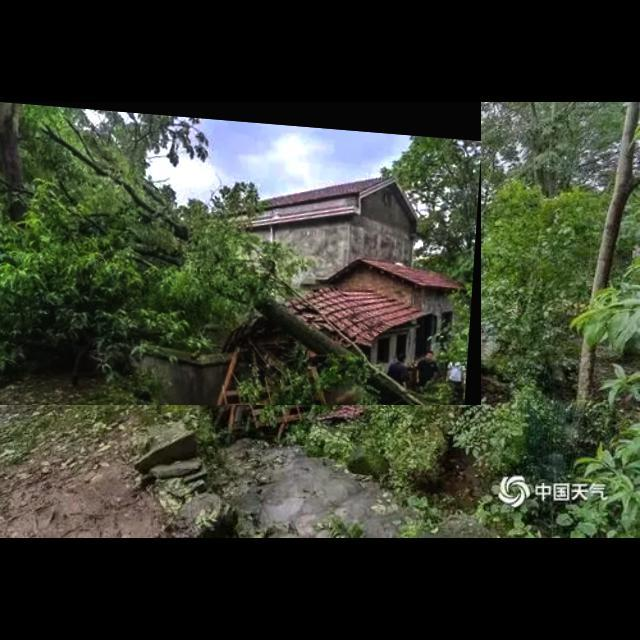fallen_tree: (0, 102, 482, 406)
